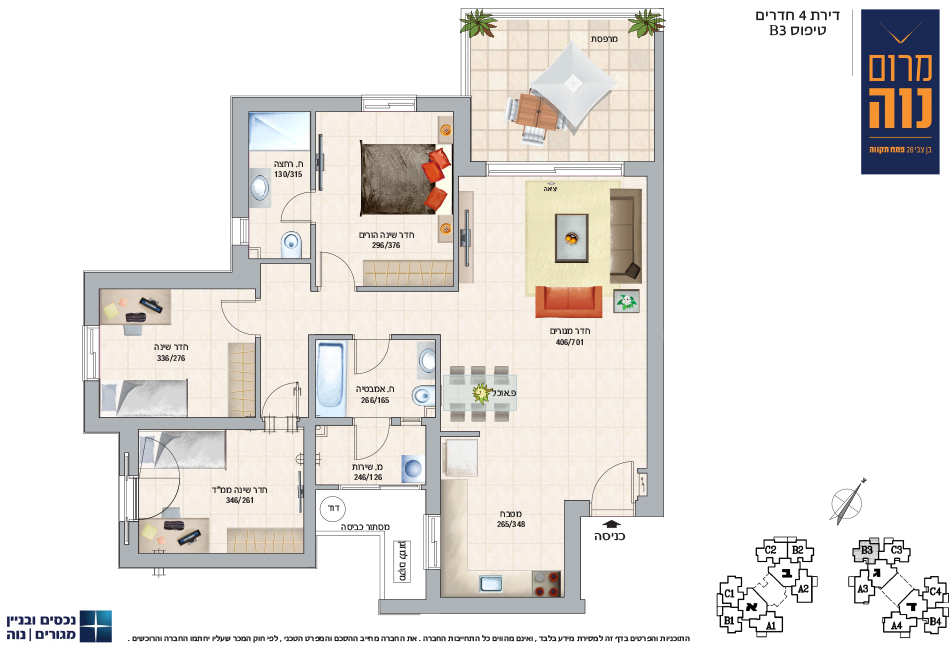door: (139, 472, 189, 516), (589, 458, 637, 496), (348, 340, 391, 378), (261, 377, 304, 415), (349, 425, 392, 463), (219, 295, 252, 338), (279, 188, 308, 229)
wall: (645, 161, 663, 517), (379, 600, 587, 613), (84, 273, 260, 288), (118, 554, 315, 566), (231, 97, 362, 112), (85, 418, 259, 429)
window: (483, 160, 624, 177), (81, 324, 100, 379), (421, 513, 440, 568), (361, 94, 417, 112), (229, 216, 248, 246)
